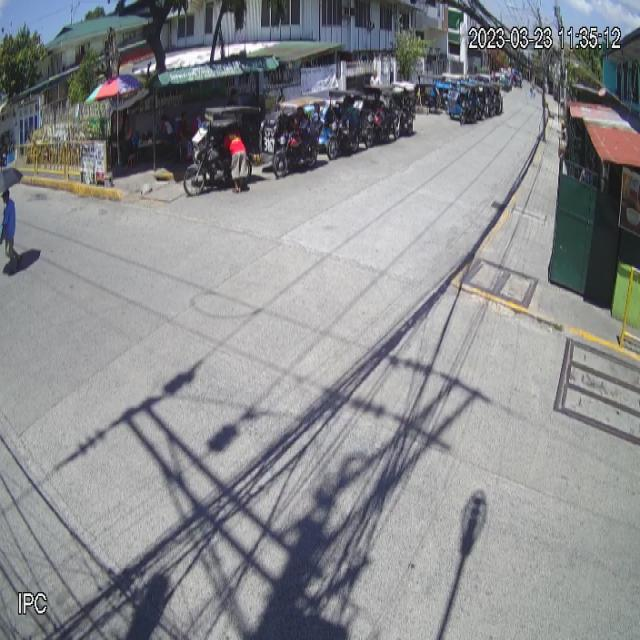Tricycle: (259, 96, 325, 179)
